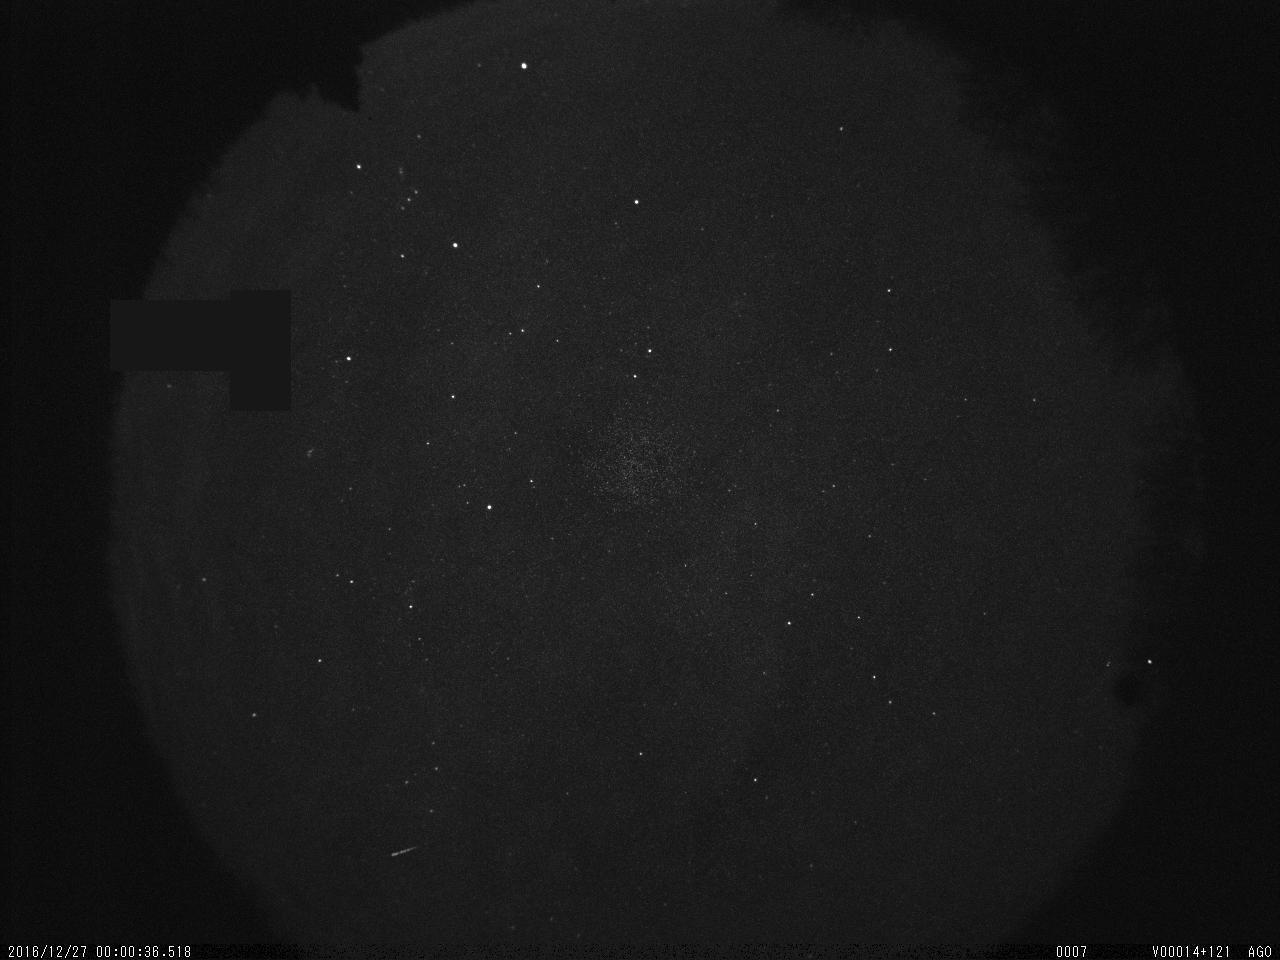Meteor: (381, 840, 426, 867)
